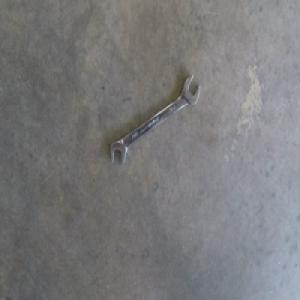Wrench: (109, 71, 199, 165)
